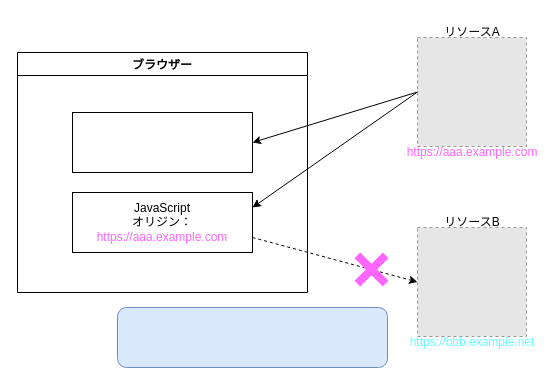
Some shapes in this 554 by 385 pixel diagram are drawn without their labels. Grey dashed boxes stand in for pictures. The centre of each missing label's shape, as x and y in pixels:
"HTML文書 オリジン： https://aaa.example.com" belongs at pixel 162 142.
"オリジンが異なるリソースは取得できない" belongs at pixel 252 337.
